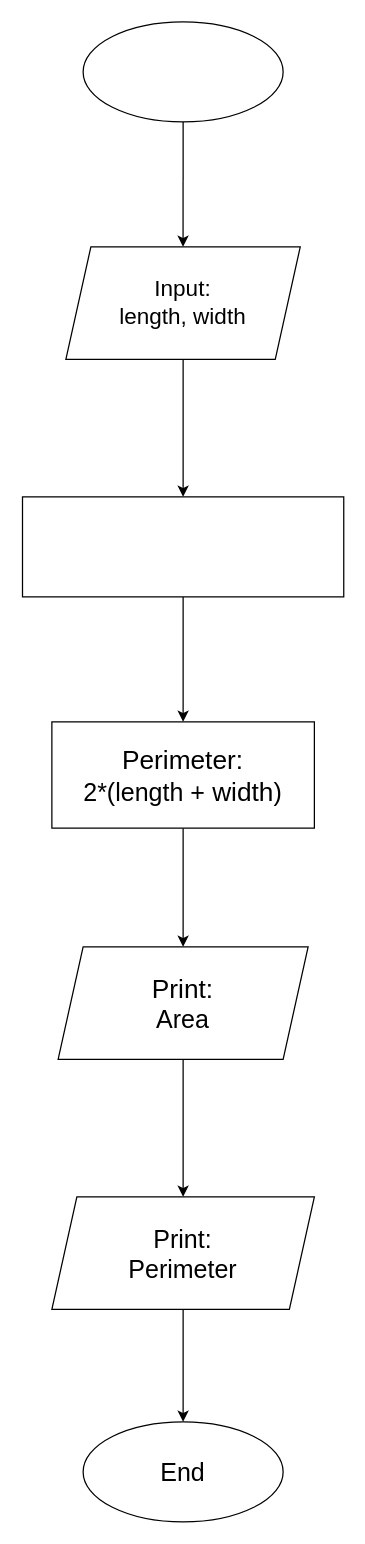
This 365x1544 diagram has some shape labels left out. Here are the shapes that lost their labels. From the top down, the box of each, then its label:
(82, 21, 283, 122): Start
(21, 496, 344, 597): Area = length * width
